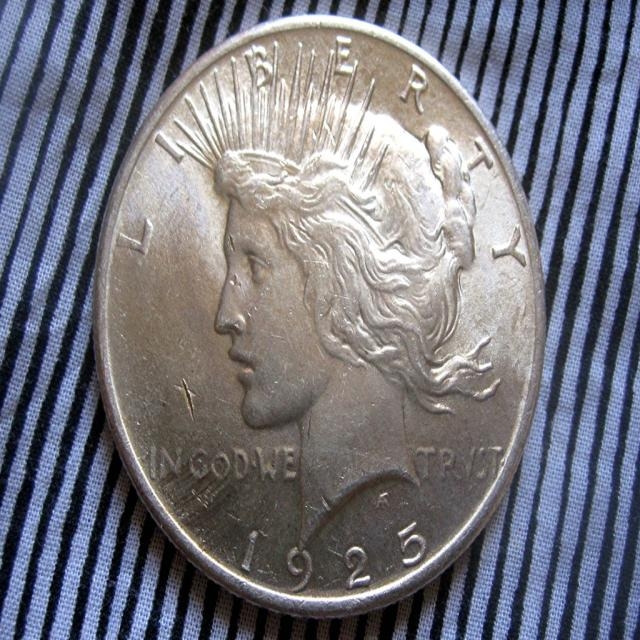Coin: (91, 10, 548, 624)
